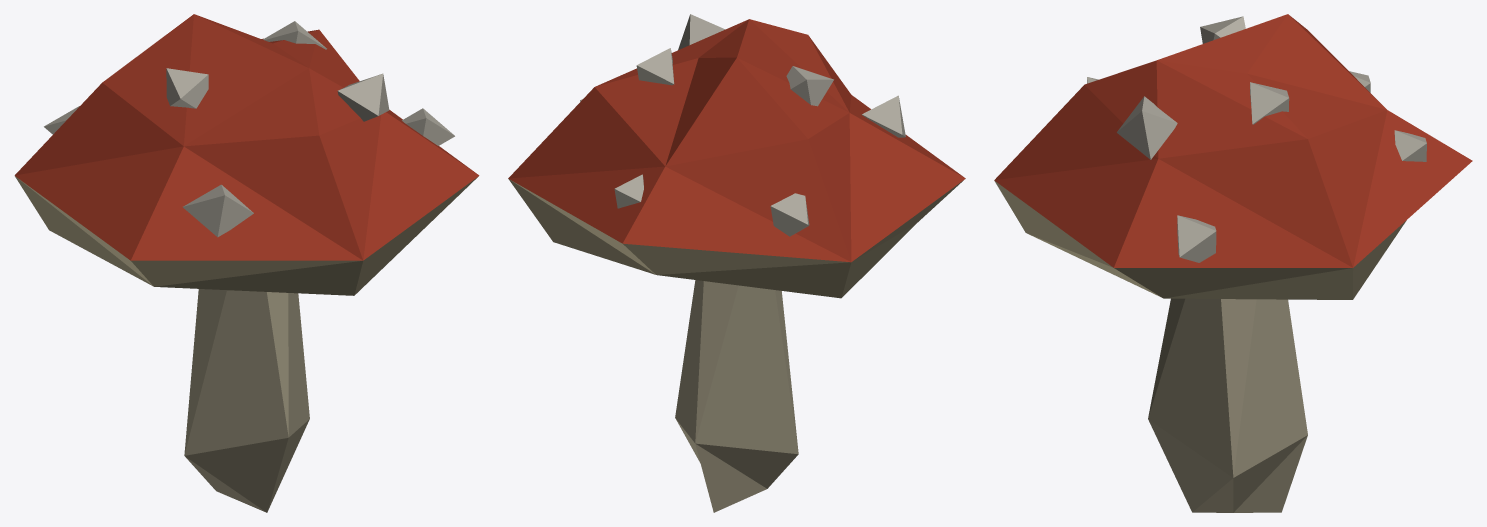
The model's file is mushroom_01.fbx.
3 renders of one model, left to right at view 1: azimuth 30°, elevation 25°; view 2: azimuth 150°, elevation 25°; view 3: azimuth 270°, elevation 25°, orthographic. The views are drawn at different scales.
Visible parts, largest first — view 1: mushroom_01; view 2: mushroom_01; view 3: mushroom_01.
Part boxes in pixels (x1,y1,x2,y2): mushroom_01: [14, 14, 479, 512]; mushroom_01: [508, 14, 965, 512]; mushroom_01: [994, 14, 1472, 512].
Bounding box in the file's own units: 1.58 × 1.99 × 1.78.
